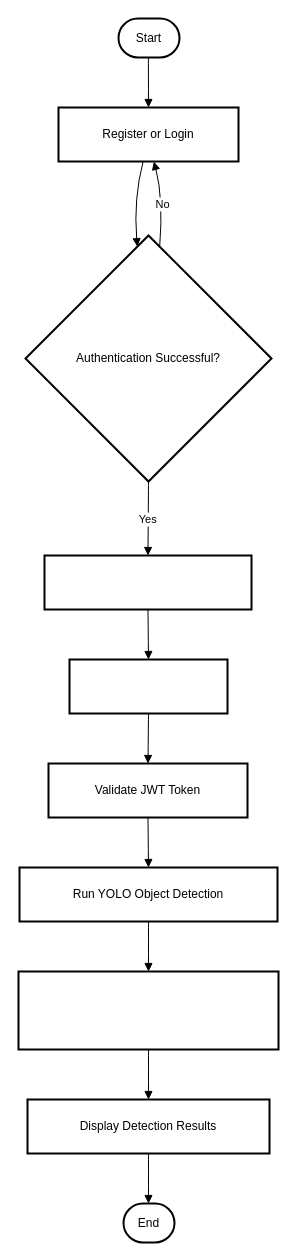
Image size: 296x1260. Some labels were removed from this diagram. The shapes that lost their labels are listed below. From the top down, each one's centre as x and y in pixels, then its label:
point (147, 582): Generate JWT Token
point (148, 686): Upload Image
point (148, 1010): Store Detection Result in MongoDB
